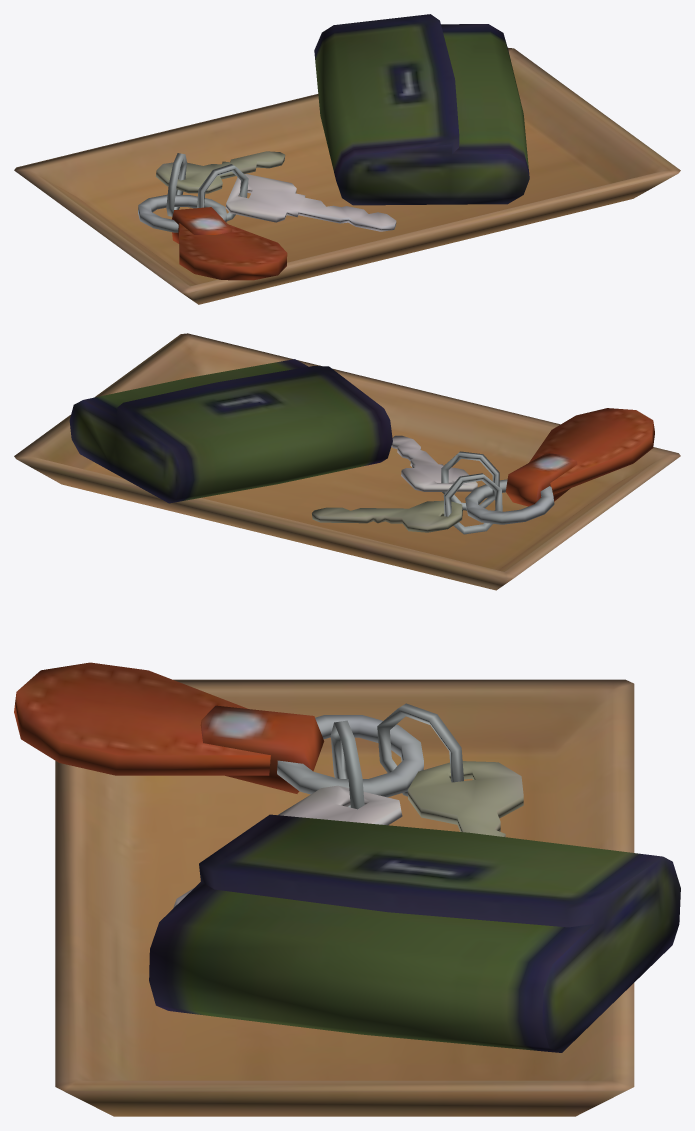
3 renders of one model, top to bottom at view 1: azimuth 30°, elevation 25°; view 2: azimuth 150°, elevation 25°; view 3: azimuth 270°, elevation 25°, orthographic. The views are drawn at different scales.
Size of the model in its own units: 7.38 by 1.31 by 4.92.
Materials: 1 (1 with a texture image).
